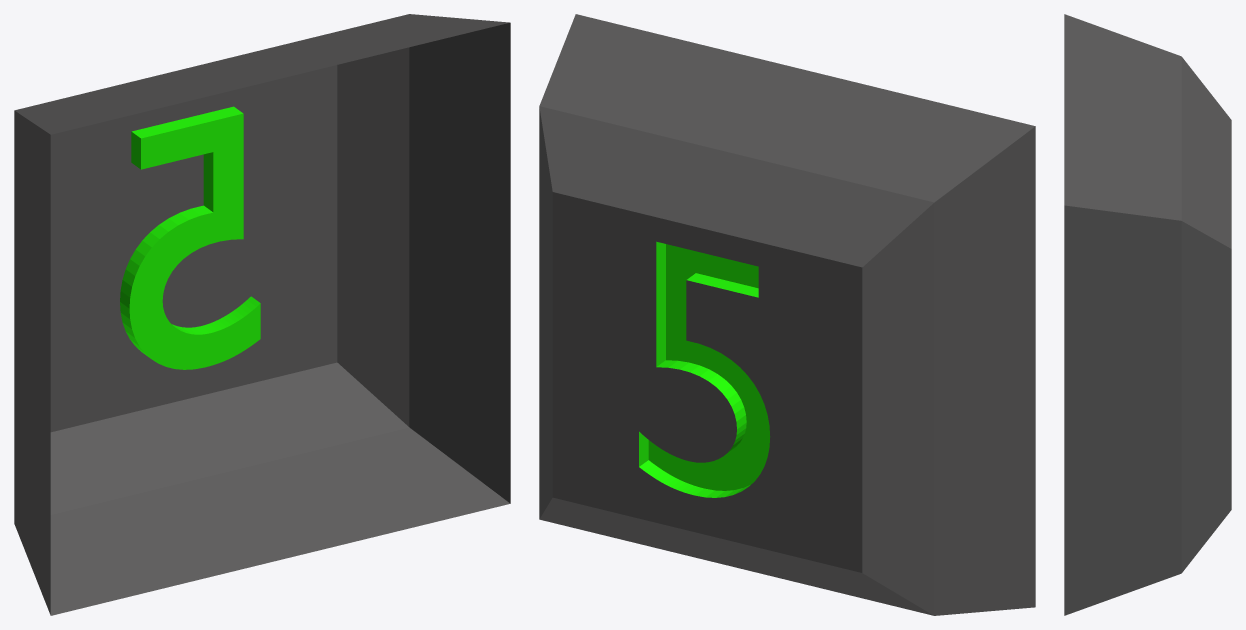
The picture shows the model from 3 angles, left to right: view 1: azimuth 30°, elevation 25°; view 2: azimuth 150°, elevation 25°; view 3: azimuth 270°, elevation 25°; orthographic projection. The views are drawn at different scales.
Visible parts, largest first — view 1: key 2.007; view 2: key 2.007; view 3: key 2.007.
Boxes of the visible parts, box(x1,y1,x2,y2) form: key 2.007: box(14, 14, 510, 615); key 2.007: box(539, 14, 1035, 615); key 2.007: box(1064, 14, 1231, 615).
Size of the model in its own units: 4.81 by 4.81 by 1.78.
